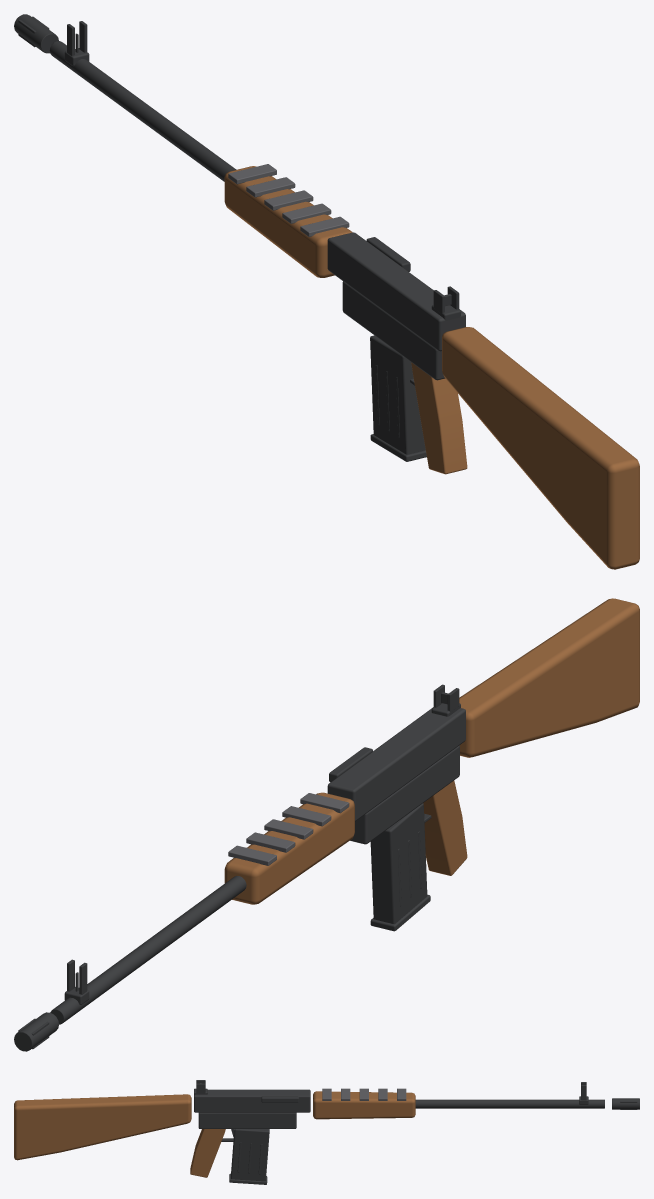
File: fal.glb
3 views of the same model, one above another, from view 1: azimuth 30°, elevation 25°; view 2: azimuth 150°, elevation 25°; view 3: azimuth 270°, elevation 25° (orthographic). The views are drawn at different scales.
Visible parts, largest first — view 1: Stock, Upper, Handguard, Mag_body, Grip, Barrel, Lower, FlashHider; view 2: Stock, Upper, Handguard, Mag_body, Barrel, Lower, Grip, FlashHider; view 3: Stock, Upper, Handguard, Barrel, Mag_body, Lower, Grip, FlashHider, CarryHandleFold, Mag_body_base.
Part boxes in pixels (bbox=[...]): Stock: bbox=[442, 327, 639, 569]; Upper: bbox=[327, 232, 465, 351]; Handguard: bbox=[224, 166, 352, 277]; Mag_body: bbox=[370, 335, 425, 454]; Grip: bbox=[411, 362, 467, 474]; Barrel: bbox=[49, 41, 236, 181]; Lower: bbox=[342, 281, 445, 380]; FlashHider: bbox=[14, 14, 58, 53]; Stock: bbox=[459, 598, 639, 757]; Upper: bbox=[327, 707, 465, 821]; Handguard: bbox=[224, 792, 354, 904]; Mag_body: bbox=[370, 803, 427, 923]; Barrel: bbox=[50, 875, 246, 1024]; Lower: bbox=[350, 745, 459, 844]; Grip: bbox=[423, 780, 467, 875]; FlashHider: bbox=[14, 1012, 58, 1051]; Stock: bbox=[14, 1094, 191, 1160]; Upper: bbox=[194, 1089, 310, 1112]; Handguard: bbox=[313, 1091, 415, 1119]; Barrel: bbox=[415, 1099, 604, 1108]; Mag_body: bbox=[231, 1129, 269, 1181]; Lower: bbox=[198, 1112, 296, 1128]; Grip: bbox=[190, 1129, 225, 1177]; FlashHider: bbox=[612, 1098, 639, 1109]; CarryHandleFold: bbox=[261, 1096, 298, 1102]; Mag_body_base: bbox=[229, 1173, 267, 1184].
Bounding box in the file's own units: 0.056 × 0.2364 × 1.34.
